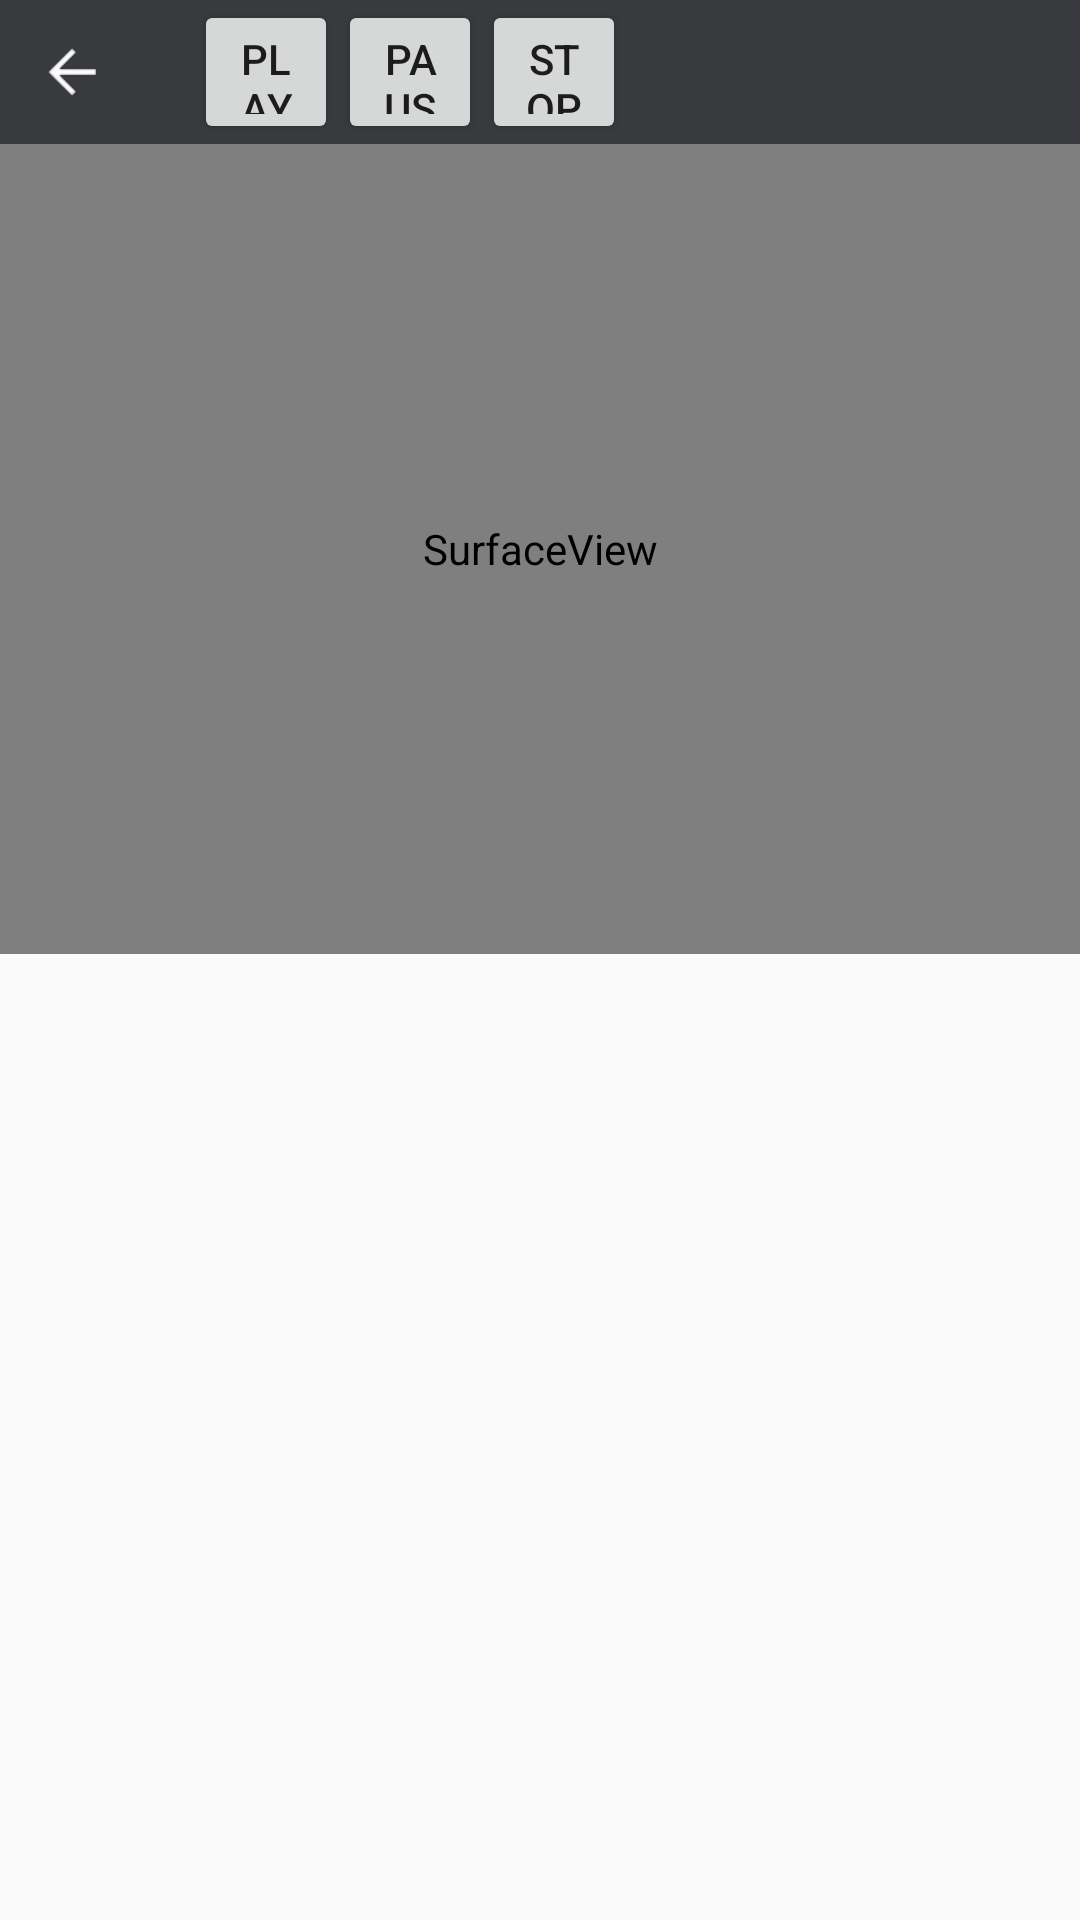

Icons on this 1080*1920 Android screen, each with its box as [x1=x1, y1=y1, x2=x2, y2=y2]:
back: [x1=48, y1=48, x2=96, y2=96]
